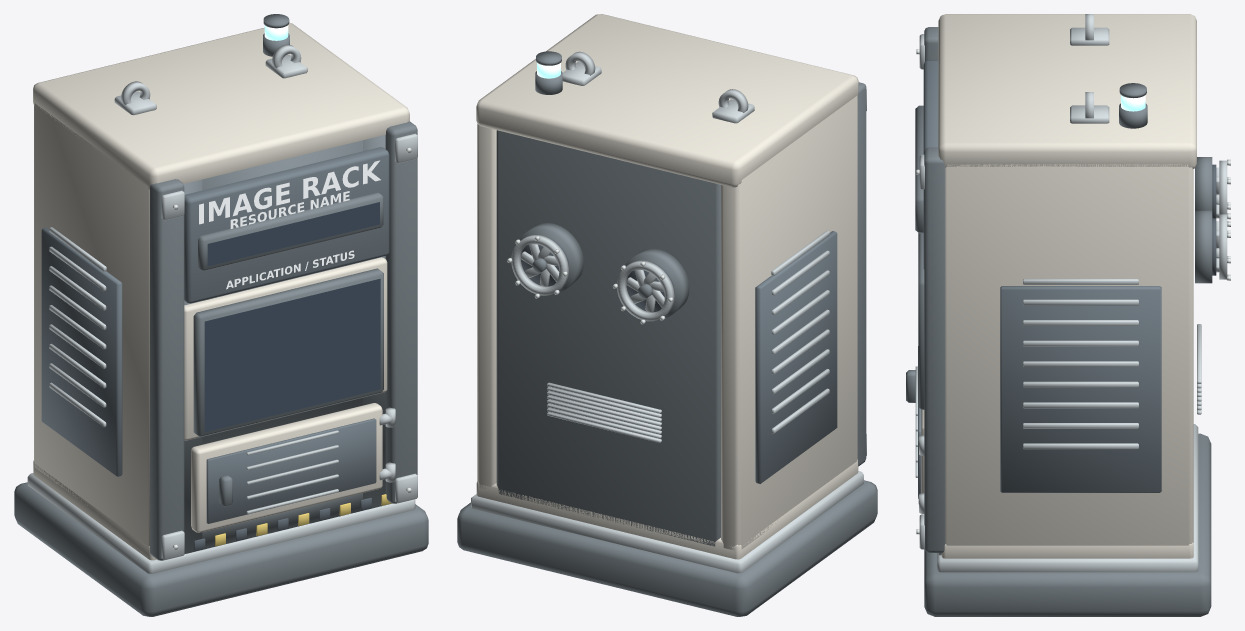
File: image_rack_ultra.glb
3 views of the same model, side by side, from view 1: azimuth 30°, elevation 25°; view 2: azimuth 150°, elevation 25°; view 3: azimuth 270°, elevation 25° (orthographic). The views are drawn at different scales.
Parts seen in each view (by area): view 1: Roof_cream, SideWall_cream, CornerPost_frame, LiveViewSurface_glass, Skid_frame, FrontHeader_graphite, SideServicePanel_graphite, DoorMoving_Inset_graphite, DoorMoving_Panel_cream, SkidDeck_steel, LiveViewSurfaceFrame_frame, ScreenSupport_cream (+16 smaller); view 2: BackWall_frame, SideWall_cream, Roof_cream, Skid_frame, SideServicePanel_graphite, SkidDeck_steel, KickPlate_cream, RearFan_steel, RearVent_steel, CornerPost_frame, SideLouver_steel, RearFan_frame (+3 smaller); view 3: SideWall_cream, Roof_cream, SideServicePanel_graphite, Skid_frame, CornerPost_frame, SideLouver_steel, SkidDeck_steel, KickPlate_cream, RearFan_frame, FrontHeader_graphite, RearFan_steel, LiftMount_steel (+7 smaller).
Part boxes in pixels (bbox=[...]): Roof_cream: bbox=[33, 23, 409, 189]; SideWall_cream: bbox=[34, 103, 149, 546]; CornerPost_frame: bbox=[150, 121, 417, 560]; LiveViewSurface_glass: bbox=[204, 278, 380, 432]; Skid_frame: bbox=[14, 482, 428, 616]; FrontHeader_graphite: bbox=[184, 147, 389, 303]; SideServicePanel_graphite: bbox=[41, 227, 122, 476]; DoorMoving_Inset_graphite: bbox=[206, 418, 376, 523]; DoorMoving_Panel_cream: bbox=[191, 403, 382, 532]; SkidDeck_steel: bbox=[27, 473, 415, 573]; LiveViewSurfaceFrame_frame: bbox=[193, 268, 383, 436]; ScreenSupport_cream: bbox=[184, 257, 387, 440]; BackWall_frame: bbox=[496, 130, 720, 546]; SideWall_cream: bbox=[477, 96, 857, 550]; Roof_cream: bbox=[476, 14, 858, 187]; Skid_frame: bbox=[457, 480, 877, 616]; SideServicePanel_graphite: bbox=[755, 231, 837, 483]; SkidDeck_steel: bbox=[471, 471, 863, 573]; KickPlate_cream: bbox=[476, 459, 858, 559]; RearFan_steel: bbox=[511, 235, 674, 321]; RearVent_steel: bbox=[547, 382, 661, 442]; CornerPost_frame: bbox=[857, 82, 866, 466]; SideLouver_steel: bbox=[771, 231, 829, 433]; RearFan_frame: bbox=[519, 223, 689, 319]; SideWall_cream: bbox=[945, 164, 1193, 545]; Roof_cream: bbox=[938, 14, 1196, 168]; SideServicePanel_graphite: bbox=[1000, 286, 1161, 492]; Skid_frame: bbox=[924, 433, 1211, 616]; CornerPost_frame: bbox=[924, 27, 945, 552]; SideLouver_steel: bbox=[1023, 279, 1138, 449]; SkidDeck_steel: bbox=[937, 424, 1198, 572]; KickPlate_cream: bbox=[941, 542, 1193, 558]; RearFan_frame: bbox=[1195, 157, 1212, 283]; FrontHeader_graphite: bbox=[923, 60, 938, 269]; RearFan_steel: bbox=[1216, 160, 1227, 279]; LiftMount_steel: bbox=[1070, 27, 1109, 123].
Bounding box in the file's own units: 1.6 × 2.53 × 1.48.
